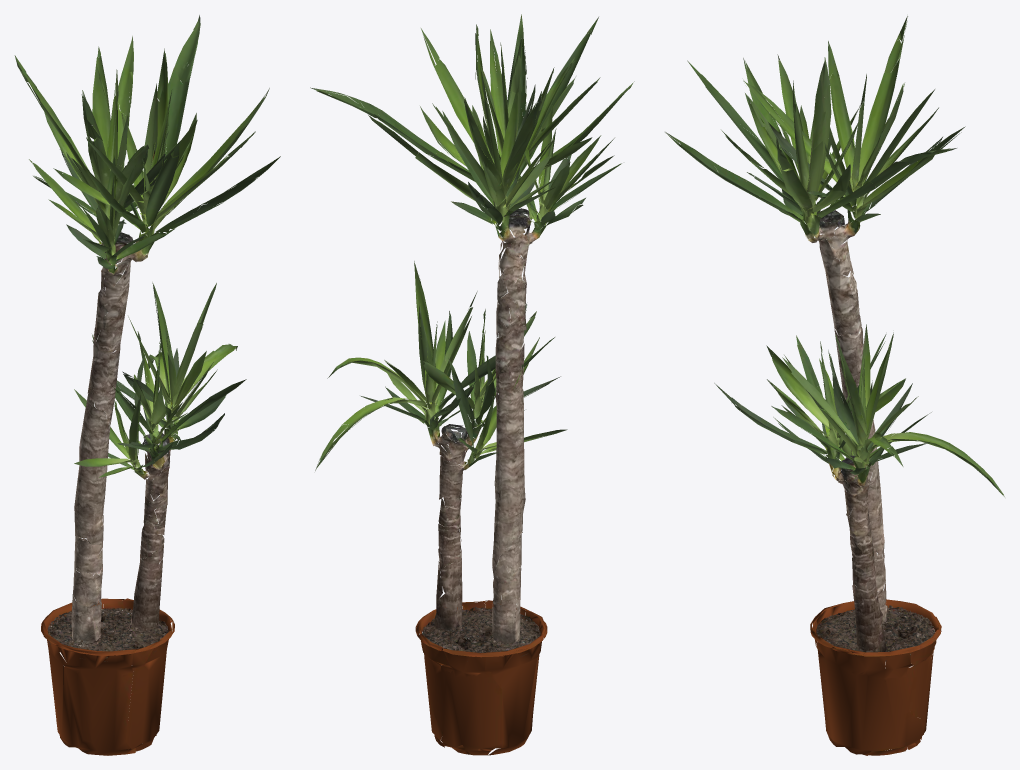
The picture shows the model from 3 angles, left to right: view 1: azimuth 30°, elevation 25°; view 2: azimuth 150°, elevation 25°; view 3: azimuth 270°, elevation 25°; orthographic projection.
Parts seen in each view (by area): view 1: 10329308-YUCCA ELEPHANTIPES001; view 2: 10329308-YUCCA ELEPHANTIPES001; view 3: 10329308-YUCCA ELEPHANTIPES001.
Boxes of the visible parts, box(x1,y1,x2,y2) form: 10329308-YUCCA ELEPHANTIPES001: box(14, 15, 280, 755); 10329308-YUCCA ELEPHANTIPES001: box(310, 14, 634, 755); 10329308-YUCCA ELEPHANTIPES001: box(665, 16, 1004, 755).
Size of the model in its own units: 0.4963 by 1.37 by 0.6125.
Materials: 1 (1 with a texture image).
